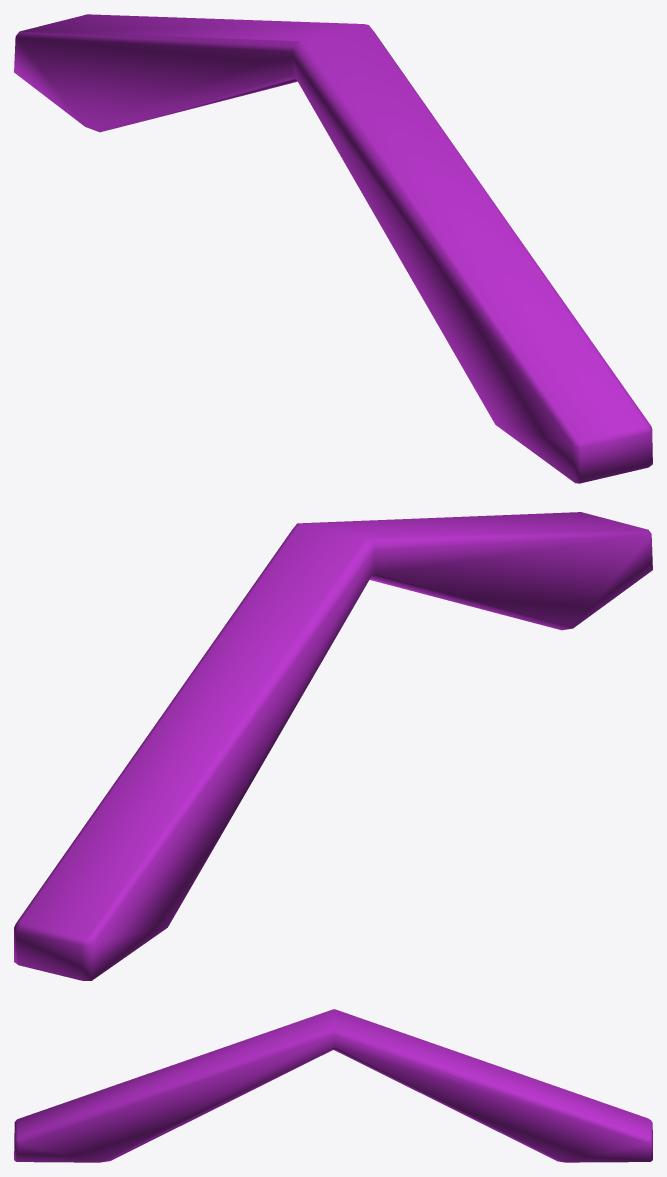
File: rychka_6_1.glb
3 views of the same model, one above another, from view 1: azimuth 30°, elevation 25°; view 2: azimuth 150°, elevation 25°; view 3: azimuth 270°, elevation 25° (orthographic). The views are drawn at different scales.
Parts seen in each view (by area): view 1: L4.006.128BL; view 2: L4.006.128BL; view 3: L4.006.128BL.
Part boxes in pixels (x1,y1,x2,y2): L4.006.128BL: (14,14,652,483); L4.006.128BL: (14,512,652,980); L4.006.128BL: (14,1009,652,1162).
Bounding box in the file's own units: 1.1 × 2.99 × 13.
